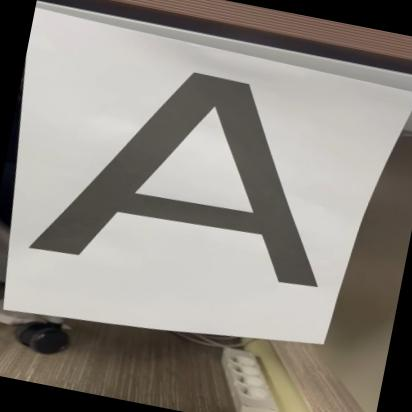seat: (15, 27, 368, 320)
